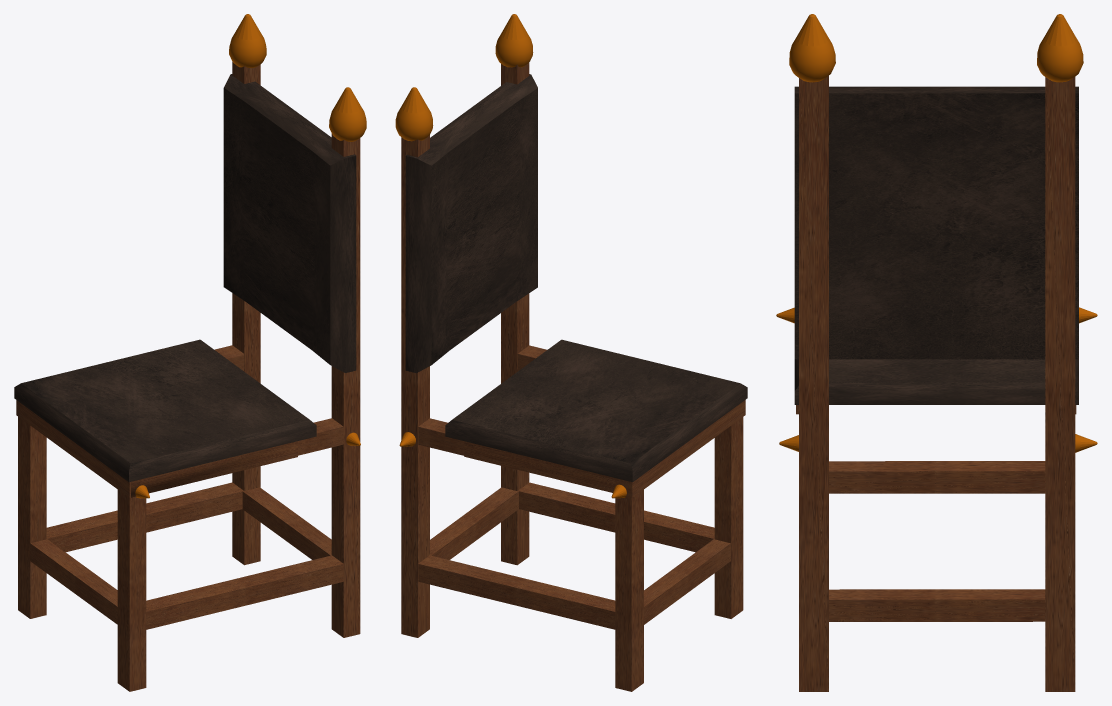
The model's file is chair_model.FBX.
The picture shows the model from 3 angles, left to right: view 1: azimuth 30°, elevation 25°; view 2: azimuth 150°, elevation 25°; view 3: azimuth 270°, elevation 25°; orthographic projection. The views are drawn at different scales.
Visible parts, largest first — view 1: Chair, Sitz2, Sitz1, Stacheln; view 2: Chair, Sitz2, Sitz1, Stacheln; view 3: Sitz2, Chair, Sitz1, Stacheln.
Boxes of the visible parts, left/top/right/bottom form: Chair: left=16, top=61, right=360, bottom=691; Sitz2: left=223, top=74, right=356, bottom=372; Sitz1: left=14, top=339, right=316, bottom=482; Stacheln: left=135, top=14, right=366, bottom=498; Chair: left=401, top=62, right=745, bottom=691; Sitz2: left=405, top=74, right=537, bottom=373; Sitz1: left=445, top=339, right=747, bottom=482; Stacheln: left=395, top=14, right=626, bottom=498; Sitz2: left=794, top=86, right=1078, bottom=359; Chair: left=796, top=75, right=1076, bottom=691; Sitz1: left=794, top=359, right=1078, bottom=404; Stacheln: left=776, top=14, right=1097, bottom=452.
Bounding box in the file's own units: 17.05 × 36.68 × 15.81.
Materials: 3 (2 with a texture image).
